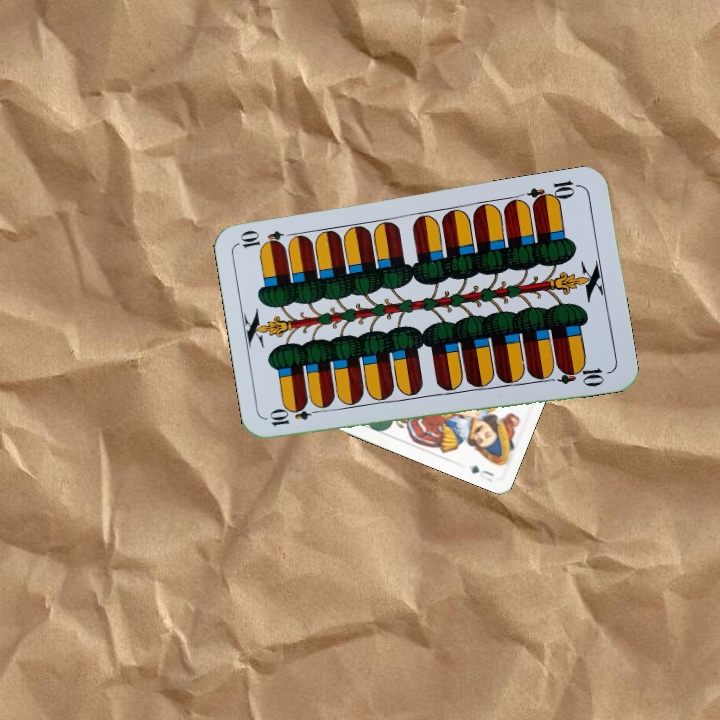E10: (524, 176, 583, 209), (266, 403, 325, 429)
